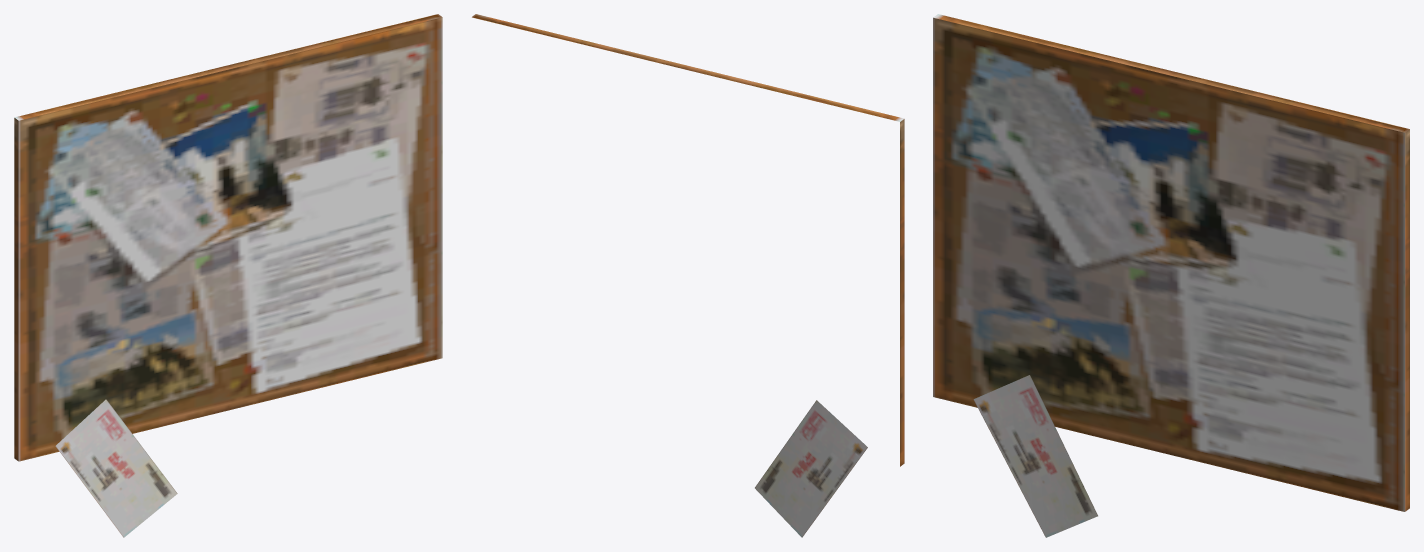
The model's file is NoticeBoard2.glb.
3 renders of one model, left to right at view 1: azimuth 30°, elevation 25°; view 2: azimuth 150°, elevation 25°; view 3: azimuth 330°, elevation 25°, orthographic. The views are drawn at different scales.
Parts seen in each view (by area): view 1: NOTICEBOARD2; view 2: NOTICEBOARD2; view 3: NOTICEBOARD2.
Part boxes in pixels (left/top/right/bottom): NOTICEBOARD2: left=14, top=14, right=442, bottom=537; NOTICEBOARD2: left=472, top=14, right=904, bottom=537; NOTICEBOARD2: left=933, top=14, right=1409, bottom=537.
Bounding box in the file's own units: 1.35 × 1.34 × 0.054.
1 material, 1 textured.
